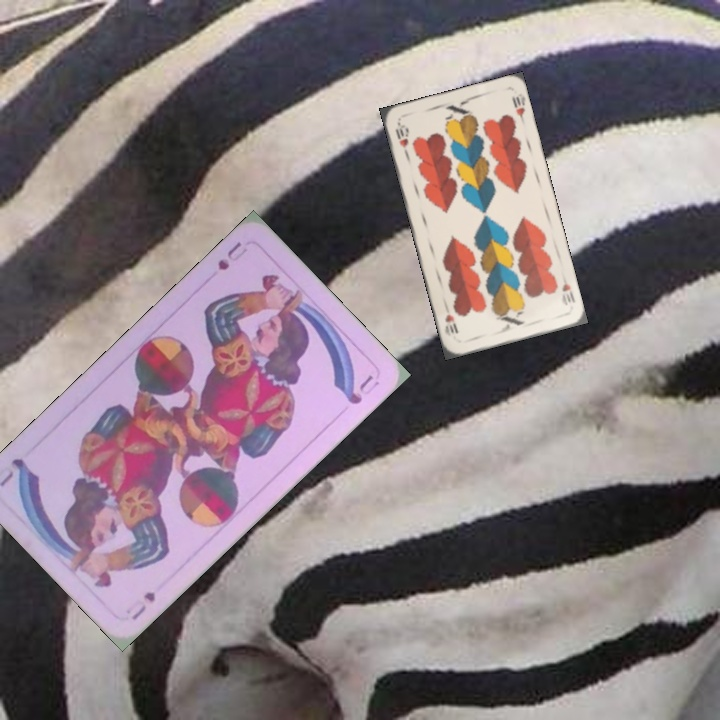H10: (391, 119, 411, 159), (557, 270, 578, 308)
SU: (213, 237, 251, 273), (127, 587, 158, 623)
